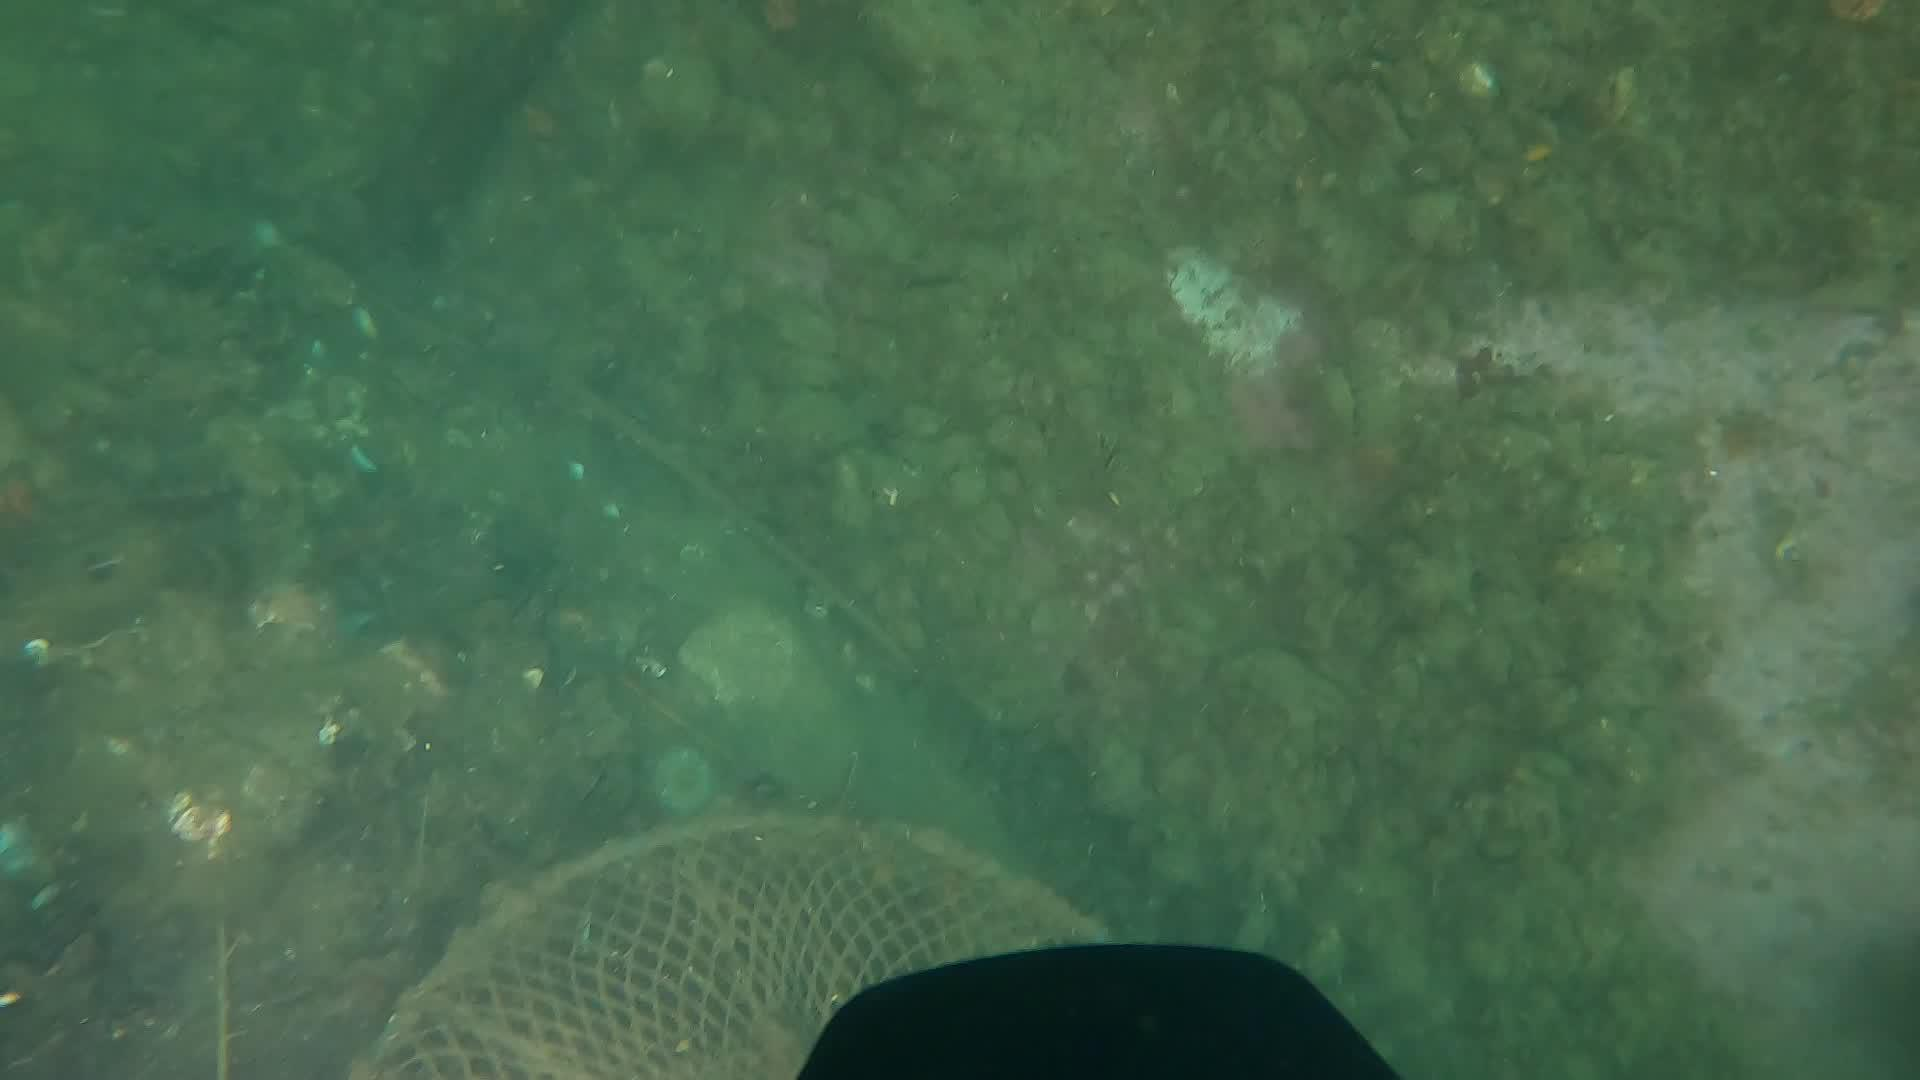circular fish trap: (348, 808, 1127, 1080)
